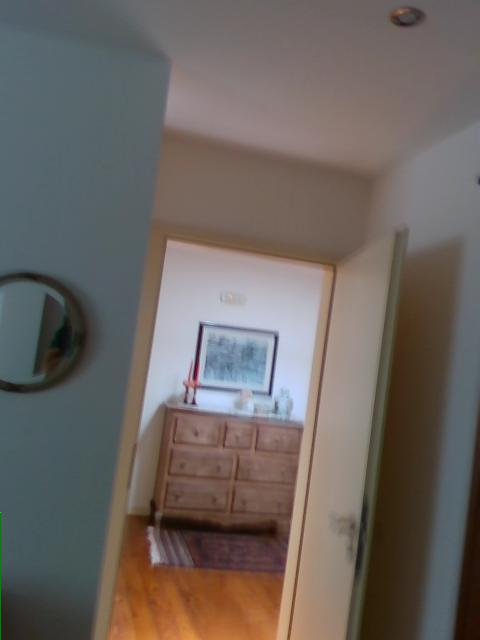open_door: (99, 223, 342, 639)
